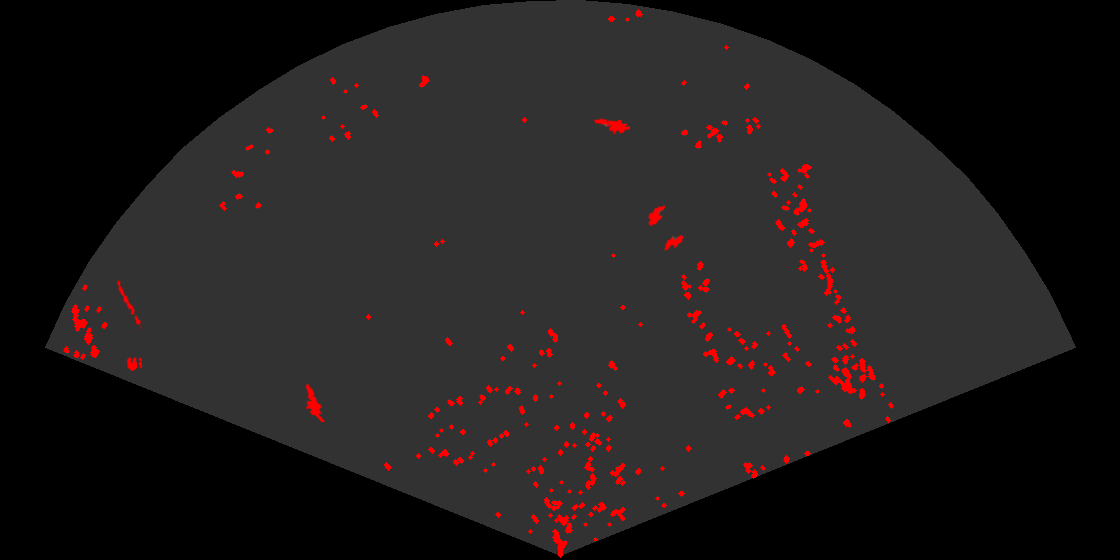AUV: (647, 204, 667, 228), (663, 233, 686, 252)
ball: (125, 356, 143, 373)
chain: (116, 278, 144, 329)
frogman: (303, 382, 327, 422), (593, 117, 630, 136)
